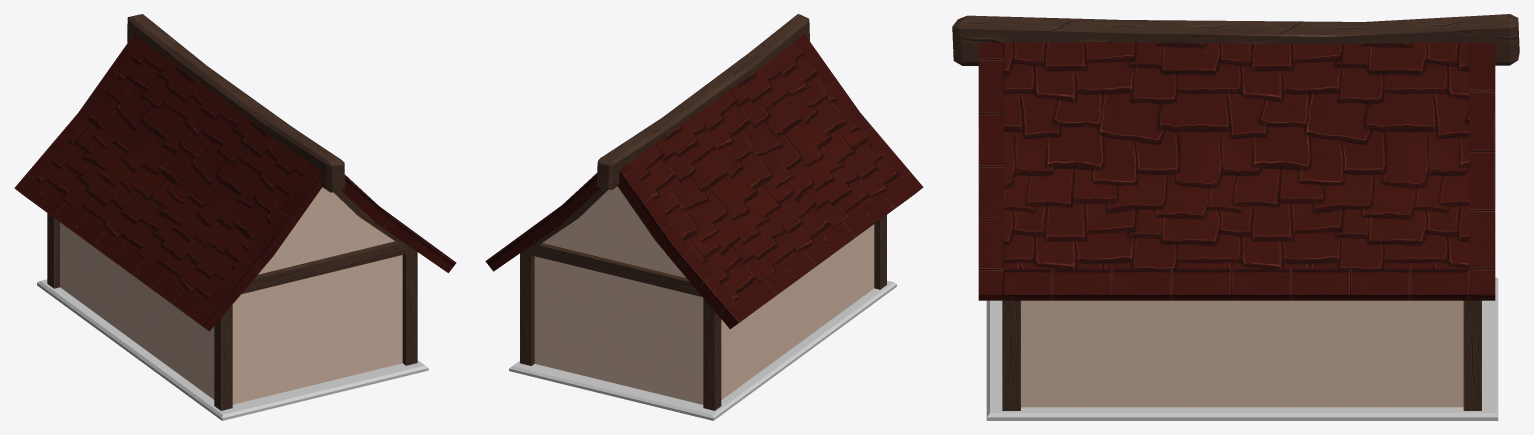
File: HouseBlank.fbx
3 renders of one model, left to right at view 1: azimuth 30°, elevation 25°; view 2: azimuth 150°, elevation 25°; view 3: azimuth 270°, elevation 25°, orthographic. The views are drawn at different scales.
Parts seen in each view (by area): view 1: House.013; view 2: House.013; view 3: House.013.
Boxes of the visible parts, box(x1,y1,x2,y2) form: House.013: box(14, 14, 456, 420); House.013: box(485, 14, 923, 420); House.013: box(952, 14, 1519, 420).
Bounding box in the file's own units: 8.83 × 7.99 × 12.3.
